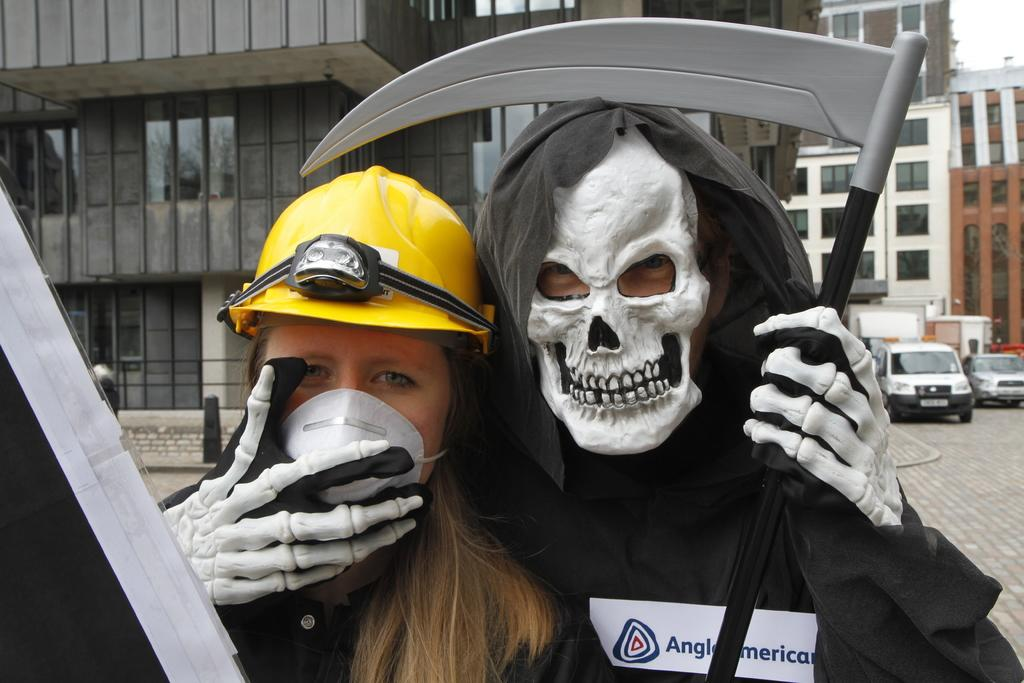helmet: (227, 166, 495, 502)
